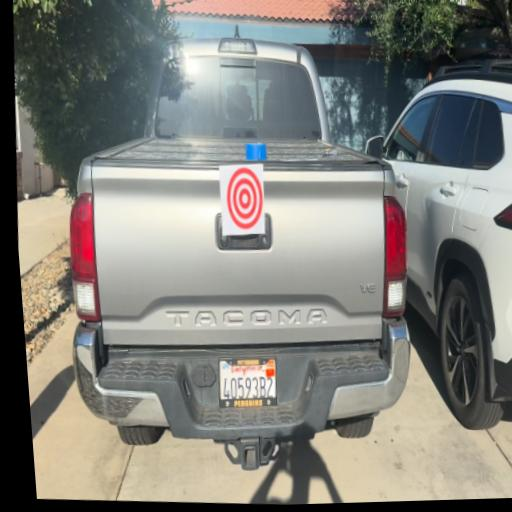bullseye: (225, 165, 266, 235)
